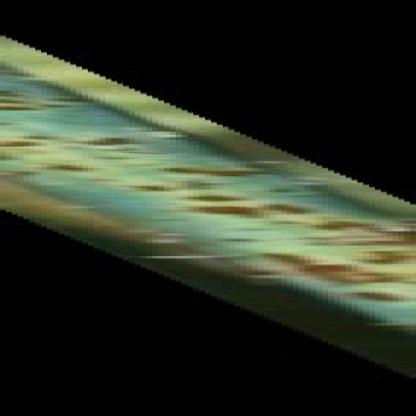wheat Stem Rust: (47, 189, 350, 219), (213, 228, 415, 263), (3, 160, 283, 179), (7, 133, 164, 150), (0, 91, 96, 112), (291, 268, 415, 284)
